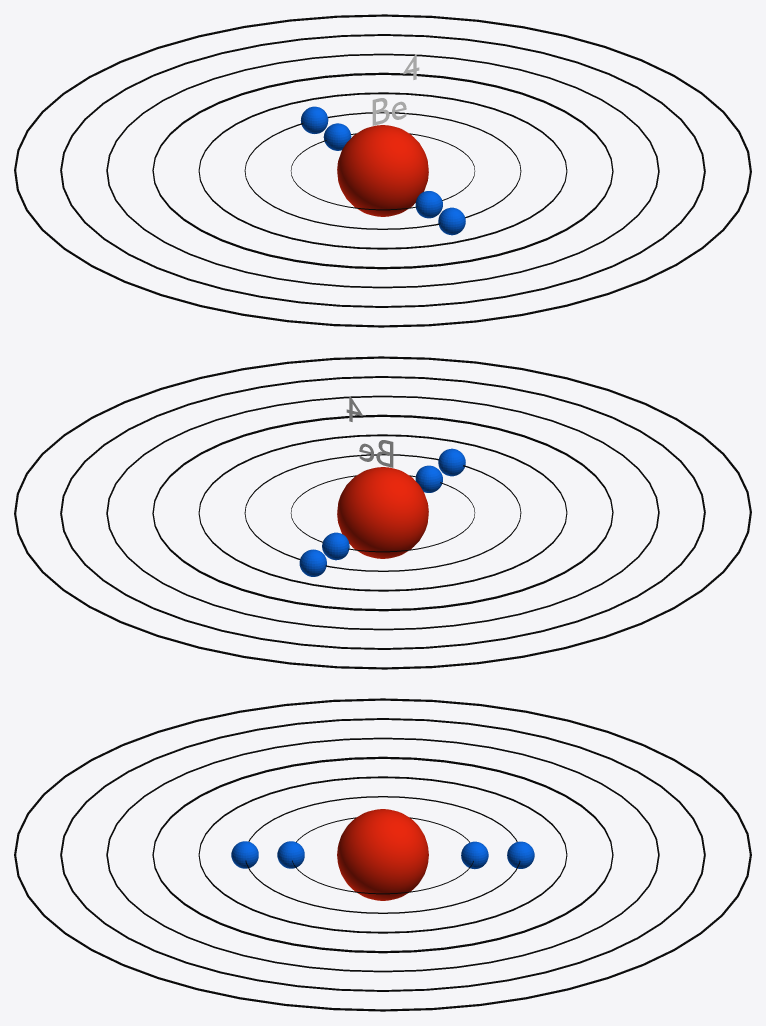
The picture shows the model from 3 angles, top to bottom: view 1: azimuth 30°, elevation 25°; view 2: azimuth 150°, elevation 25°; view 3: azimuth 270°, elevation 25°; orthographic projection.
Parts seen in each view (by area): view 1: Proton, n7, n6, n5, n4, n3, Be2, Be1, n2; view 2: Proton, n7, n6, n5, n4, n3, Be2, Be1, n2; view 3: Proton, n7, n6, n5, n4, n3, Be1, Be2, n2, n1.
Part boxes in pixels (<box>): Proton: <box>337,125,428,216</box>; n7: <box>14,14,751,327</box>; n6: <box>60,34,705,307</box>; n5: <box>106,53,659,288</box>; n4: <box>152,72,613,269</box>; n3: <box>198,92,567,249</box>; Be2: <box>300,106,465,235</box>; Be1: <box>323,123,442,218</box>; n2: <box>244,112,521,229</box>; Proton: <box>337,467,428,558</box>; n7: <box>14,356,751,669</box>; n6: <box>60,376,705,649</box>; n5: <box>106,395,659,630</box>; n4: <box>152,414,613,611</box>; n3: <box>198,434,567,591</box>; Be2: <box>299,448,465,576</box>; Be1: <box>322,465,442,560</box>; n2: <box>244,454,521,571</box>; Proton: <box>337,809,428,900</box>; n7: <box>14,698,751,1011</box>; n6: <box>60,718,705,991</box>; n5: <box>106,737,659,972</box>; n4: <box>152,756,613,953</box>; n3: <box>198,776,567,933</box>; Be1: <box>277,841,488,869</box>; Be2: <box>231,841,534,868</box>; n2: <box>245,796,520,913</box>; n1: <box>292,817,473,894</box>.
Bounding box in the file's own units: 802 × 180 × 802.
